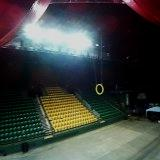Yellow_Circle_GShape: (95, 84, 104, 94)
